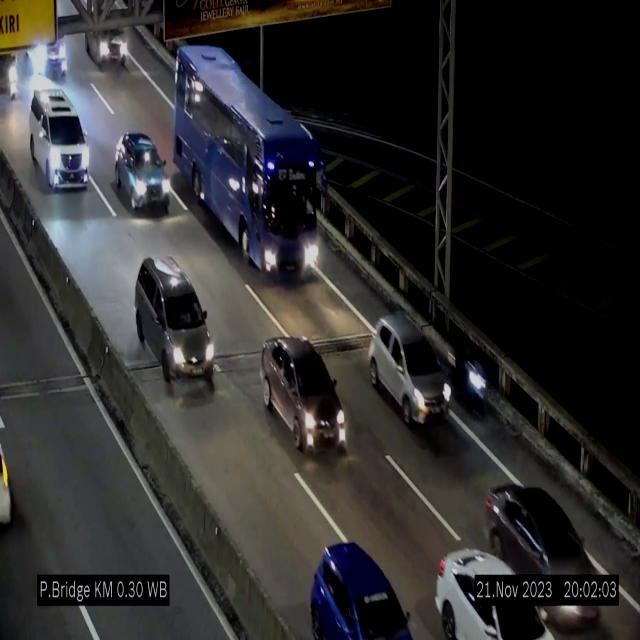Bus: (170, 45, 328, 282)
Car: (259, 332, 349, 462), (132, 256, 217, 388), (366, 309, 450, 442), (28, 86, 92, 199), (114, 130, 170, 214)
Motorcycle: (462, 340, 490, 424)
